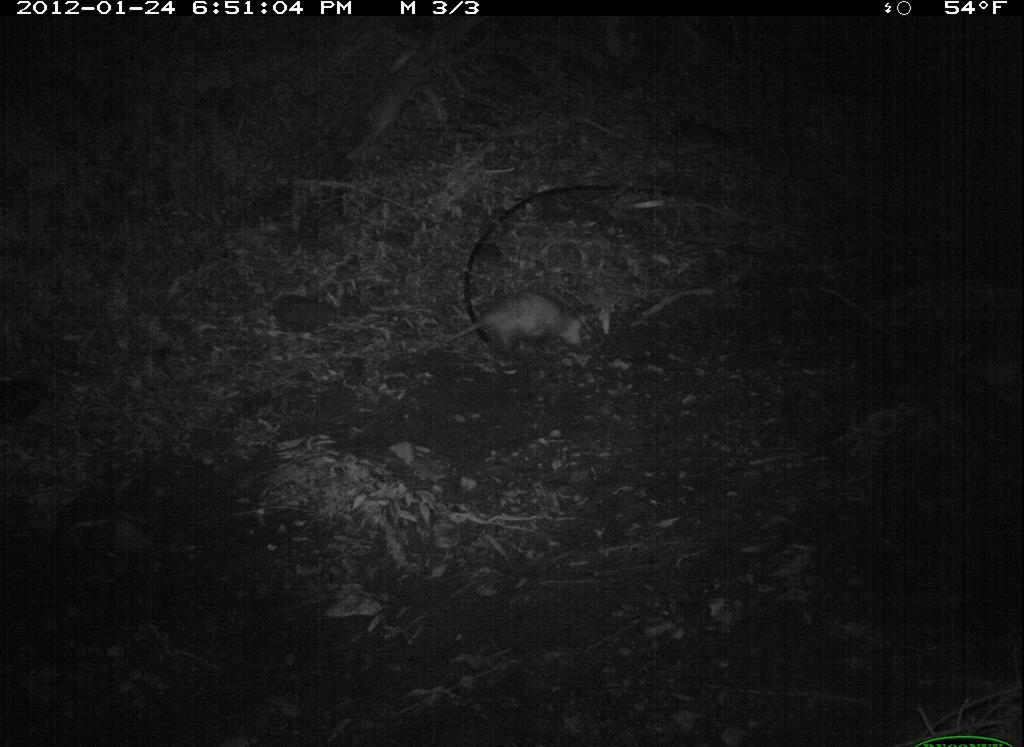opossum: (434, 280, 606, 373)
